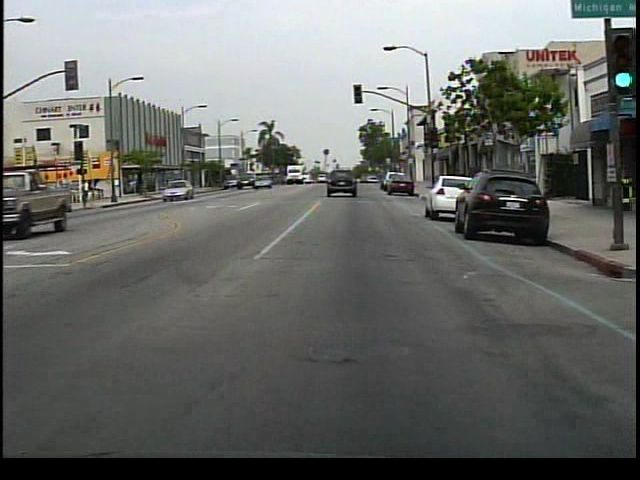person: (78, 179, 97, 208)
